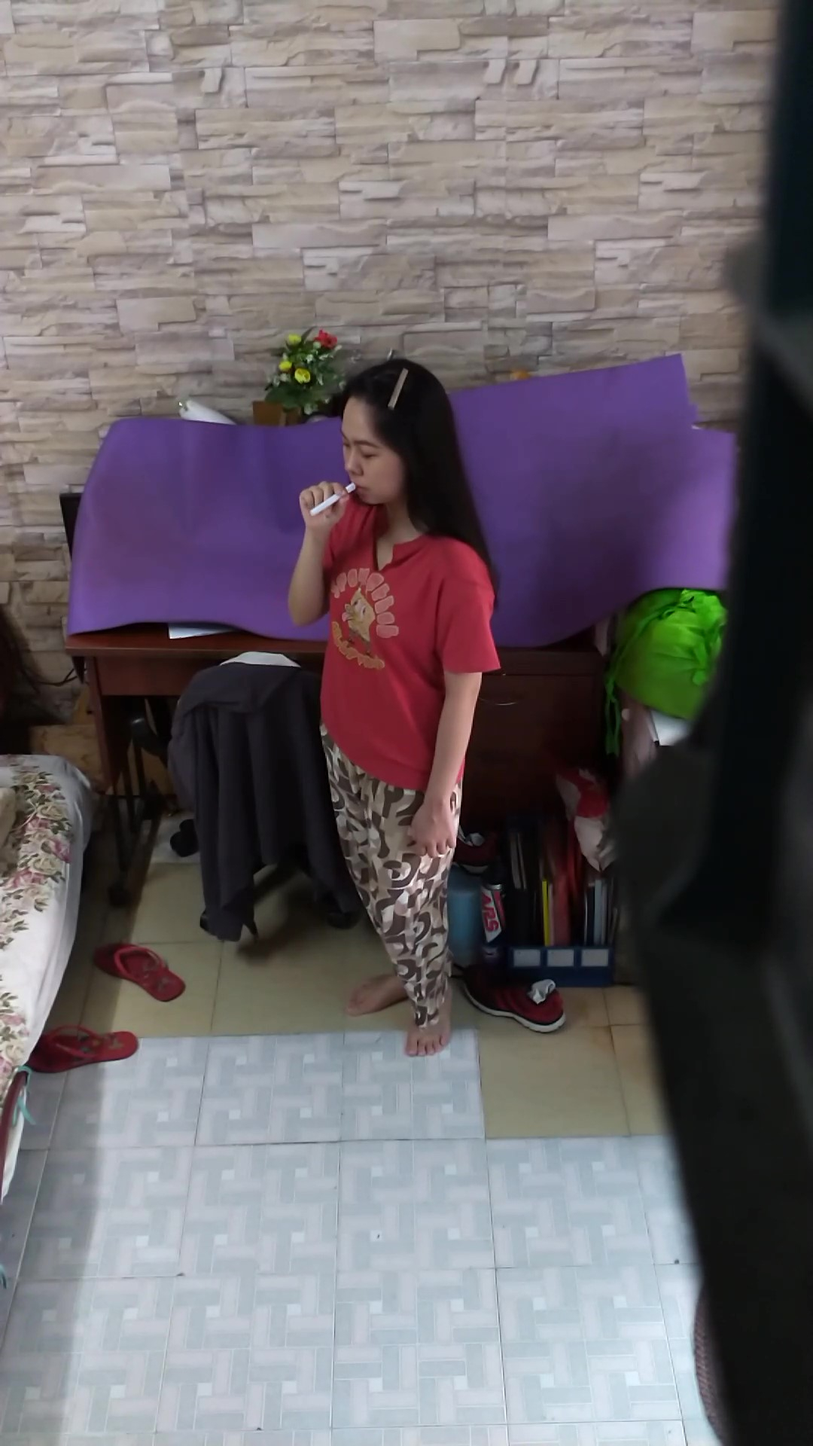cigarette: (307, 492, 342, 520)
person: (294, 352, 501, 1061)
